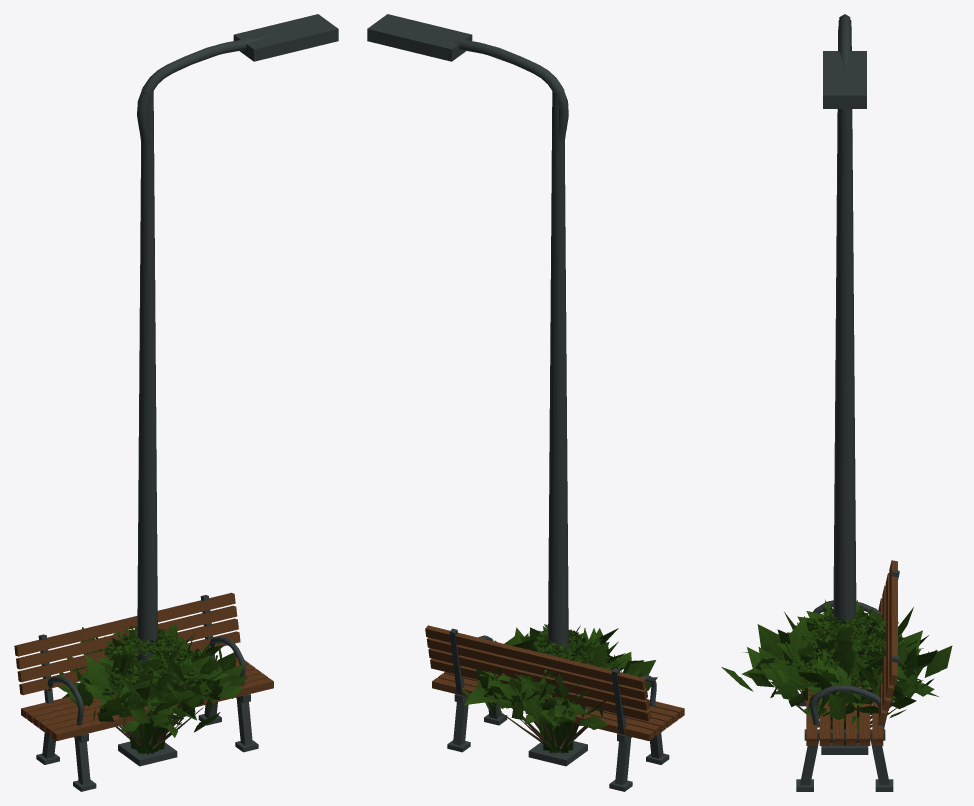
File: landscape.glb
3 renders of one model, left to right at view 1: azimuth 30°, elevation 25°; view 2: azimuth 150°, elevation 25°; view 3: azimuth 270°, elevation 25°, orthographic. The views are drawn at different scales.
Parts seen in each view (by area): view 1: lamp_near_PR7 | poste_rua | INTERATIVA, bench_far_PR7 | banco_encosto | DISTANTE, shrub0_far_PR7 | arbusto_baixo | DISTANTE, bench_near_PR7 | banco_encosto | INTERATIVA, shrub0_near_PR7 | arbusto_baixo | INTERATIVA, lamp_far_PR7 | poste_rua | DISTANTE, shade_far_PR7 | arvore_sombra | DISTANTE, shade_near_PR7 | arvore_sombra | INTERATIVA, shrub1_far_PR7 | forracao | DISTANTE, tree_near_PR7 | arvore_rua | INTERATIVA, tree_far_PR7 | arvore_rua | DISTANTE; view 2: lamp_near_PR7 | poste_rua | INTERATIVA, bench_far_PR7 | banco_encosto | DISTANTE, bench_near_PR7 | banco_encosto | INTERATIVA, lamp_far_PR7 | poste_rua | DISTANTE, shrub0_far_PR7 | arbusto_baixo | DISTANTE, shrub0_near_PR7 | arbusto_baixo | INTERATIVA, shrub1_far_PR7 | forracao | DISTANTE, shade_far_PR7 | arvore_sombra | DISTANTE, shade_near_PR7 | arvore_sombra | INTERATIVA; view 3: lamp_near_PR7 | poste_rua | INTERATIVA, shrub0_far_PR7 | arbusto_baixo | DISTANTE, bench_far_PR7 | banco_encosto | DISTANTE, shrub0_near_PR7 | arbusto_baixo | INTERATIVA, lamp_far_PR7 | poste_rua | DISTANTE, bench_near_PR7 | banco_encosto | INTERATIVA, tree_near_PR7 | arvore_rua | INTERATIVA, shade_far_PR7 | arvore_sombra | DISTANTE, shade_near_PR7 | arvore_sombra | INTERATIVA, tree_far_PR7 | arvore_rua | DISTANTE.
Part boxes in pixels (<box>): lamp_near_PR7 | poste_rua | INTERATIVA: <box>118,17,330,764</box>; bench_far_PR7 | banco_encosto | DISTANTE: <box>14,592,273,791</box>; shrub0_far_PR7 | arbusto_baixo | DISTANTE: <box>58,623,243,749</box>; bench_near_PR7 | banco_encosto | INTERATIVA: <box>15,593,272,790</box>; shrub0_near_PR7 | arbusto_baixo | INTERATIVA: <box>67,623,248,748</box>; lamp_far_PR7 | poste_rua | DISTANTE: <box>118,14,338,766</box>; shade_far_PR7 | arvore_sombra | DISTANTE: <box>87,625,202,706</box>; shade_near_PR7 | arvore_sombra | INTERATIVA: <box>103,626,201,706</box>; shrub1_far_PR7 | forracao | DISTANTE: <box>102,679,199,754</box>; tree_near_PR7 | arvore_rua | INTERATIVA: <box>100,629,186,687</box>; tree_far_PR7 | arvore_rua | DISTANTE: <box>99,624,185,688</box>; lamp_near_PR7 | poste_rua | INTERATIVA: <box>372,17,587,763</box>; bench_far_PR7 | banco_encosto | DISTANTE: <box>425,625,684,791</box>; bench_near_PR7 | banco_encosto | INTERATIVA: <box>426,626,684,790</box>; lamp_far_PR7 | poste_rua | DISTANTE: <box>367,14,587,766</box>; shrub0_far_PR7 | arbusto_baixo | DISTANTE: <box>464,625,655,749</box>; shrub0_near_PR7 | arbusto_baixo | INTERATIVA: <box>462,626,657,749</box>; shrub1_far_PR7 | forracao | DISTANTE: <box>534,690,590,754</box>; shade_far_PR7 | arvore_sombra | DISTANTE: <box>521,624,619,704</box>; shade_near_PR7 | arvore_sombra | INTERATIVA: <box>517,626,614,705</box>; lamp_near_PR7 | poste_rua | INTERATIVA: <box>828,14,860,635</box>; shrub0_far_PR7 | arbusto_baixo | DISTANTE: <box>721,600,952,729</box>; bench_far_PR7 | banco_encosto | DISTANTE: <box>796,560,899,791</box>; shrub0_near_PR7 | arbusto_baixo | INTERATIVA: <box>731,607,943,727</box>; lamp_far_PR7 | poste_rua | DISTANTE: <box>821,20,868,754</box>; bench_near_PR7 | banco_encosto | INTERATIVA: <box>797,561,897,790</box>; tree_near_PR7 | arvore_rua | INTERATIVA: <box>807,608,885,682</box>; shade_far_PR7 | arvore_sombra | DISTANTE: <box>780,607,901,689</box>; shade_near_PR7 | arvore_sombra | INTERATIVA: <box>785,608,905,689</box>; tree_far_PR7 | arvore_rua | DISTANTE: <box>807,607,886,684</box>.
Bounding box in the file's own units: 2.47 × 5.63 × 1.68.
5 materials, 3 textured.
